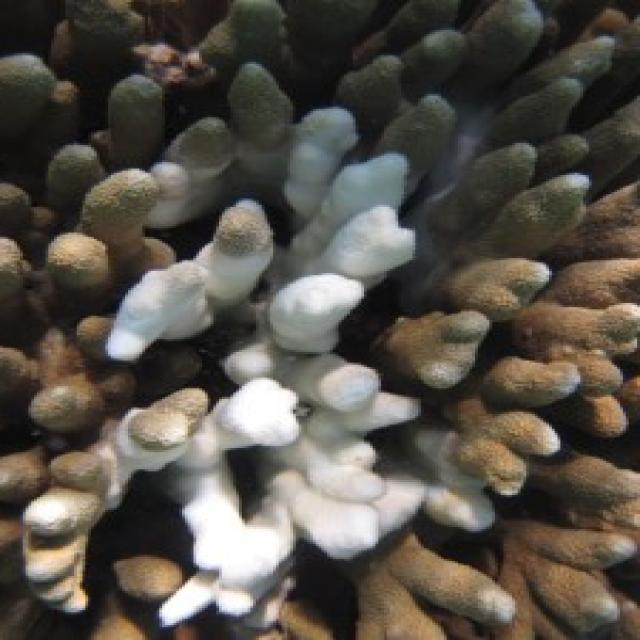Bleached: (106, 112, 422, 626)
Healthy: (362, 1, 638, 639), (1, 1, 237, 639)
